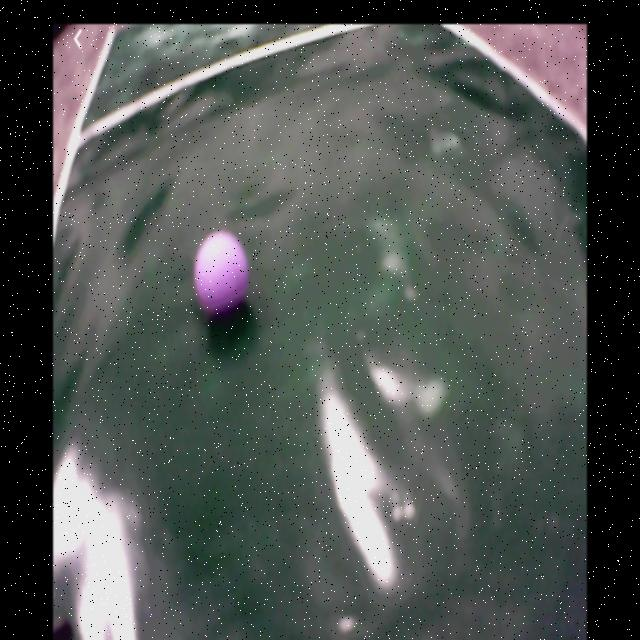ball: (195, 230, 248, 324)
